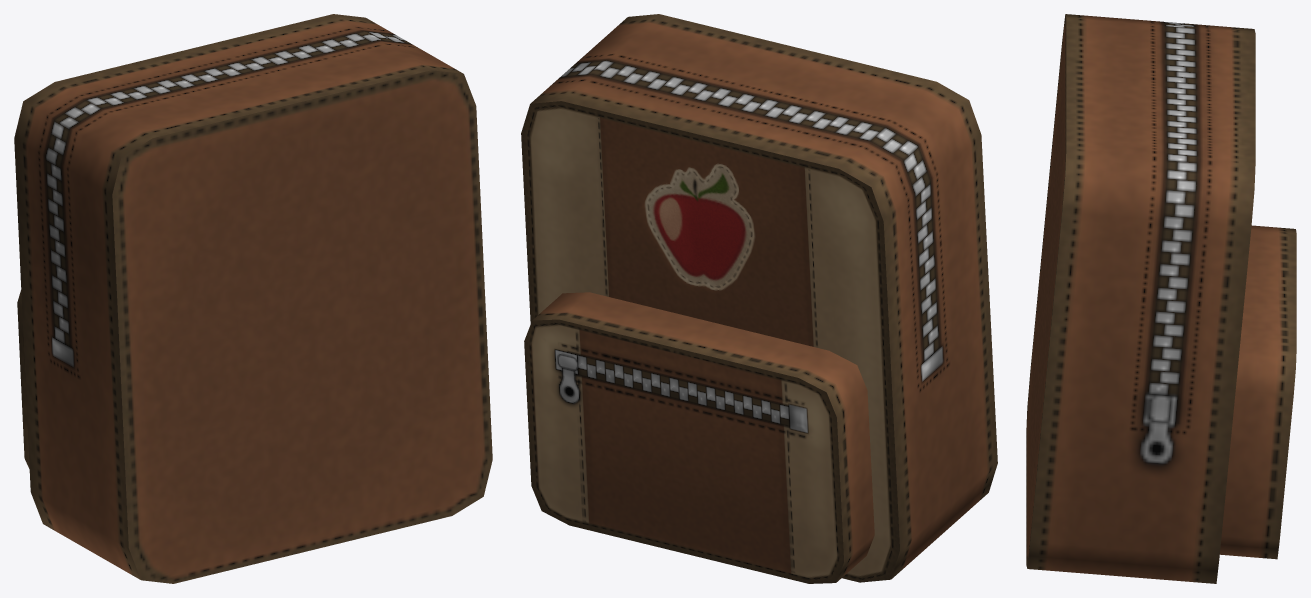
The model's file is BackBag_Apple.FBX.
3 views of the same model, side by side, from view 1: azimuth 30°, elevation 25°; view 2: azimuth 150°, elevation 25°; view 3: azimuth 270°, elevation 25° (orthographic). The views are drawn at different scales.
Parts seen in each view (by area): view 1: BackBag_Apple; view 2: BackBag_Apple; view 3: BackBag_Apple.
Boxes of the visible parts, x1,y1,x2,y2 form: BackBag_Apple: (14, 14, 492, 583); BackBag_Apple: (521, 14, 997, 583); BackBag_Apple: (1026, 14, 1296, 583).
Size of the model in its own units: 132 by 154 by 88.01.
Materials: 1 (1 with a texture image).
